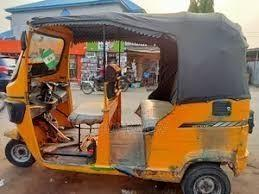keke: (4, 10, 253, 194)
